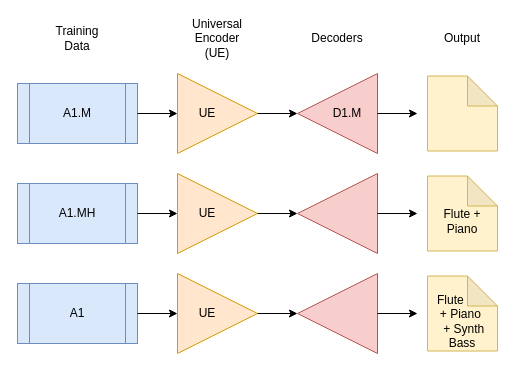
Some shapes in this 515 by 371 pixel diagram are drawn without their labels. Each missing label, with the box of its shape:
D1: (296, 272, 378, 354)
D1.MH: (296, 172, 378, 254)
Flute: (426, 75, 498, 151)
